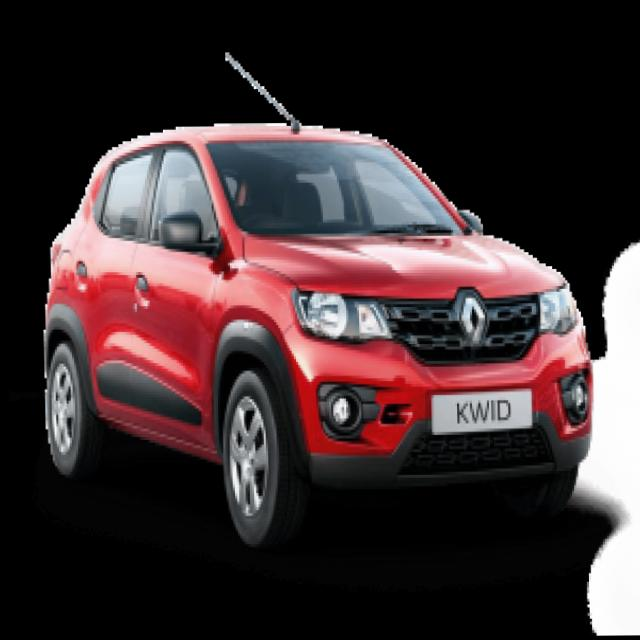licence: (425, 378, 537, 447)
